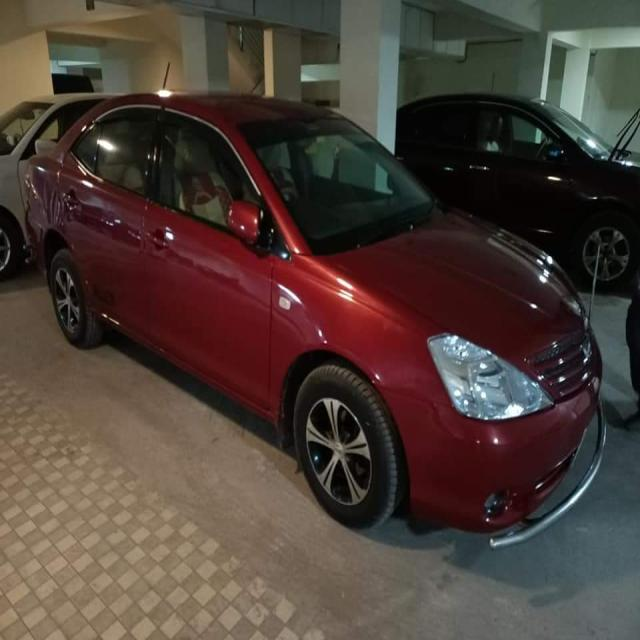black: (398, 71, 640, 258)
red: (27, 109, 580, 536)
white: (1, 88, 57, 275)
